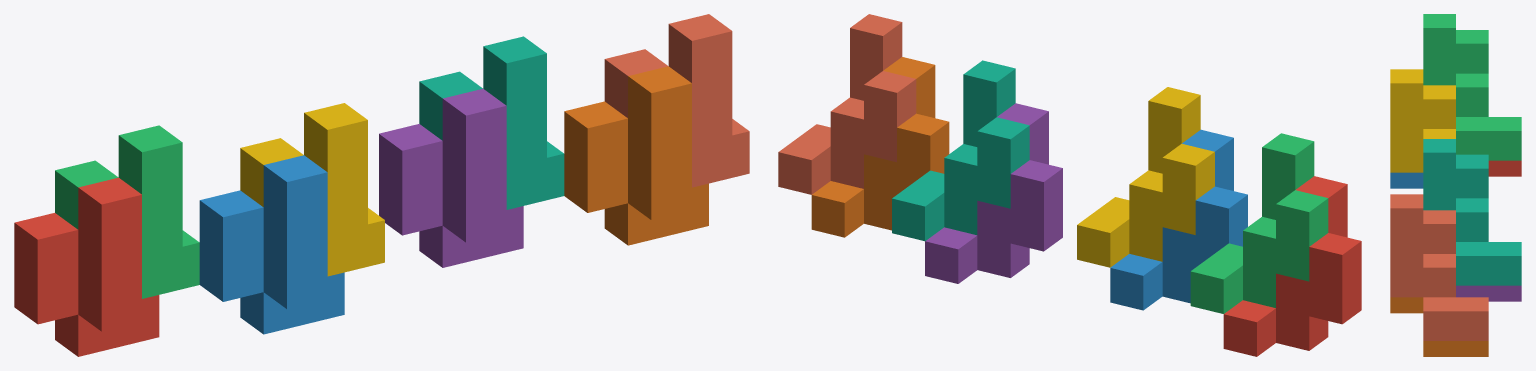
Rendered from tiling.obj.
The picture shows the model from 3 angles, left to right: view 1: azimuth 30°, elevation 25°; view 2: azimuth 150°, elevation 25°; view 3: azimuth 270°, elevation 25°; orthographic projection. The views are drawn at different scales.
Visible parts, largest first — view 1: copy_1_domain_2, copy_1_domain_5, copy_1_domain_1, copy_1_domain_6, copy_1_domain_7, copy_1_domain_3, copy_1_domain_8, copy_1_domain_4; view 2: copy_1_domain_3, copy_1_domain_7, copy_1_domain_4, copy_1_domain_8, copy_1_domain_1, copy_1_domain_5, copy_1_domain_6, copy_1_domain_2; view 3: copy_1_domain_8, copy_1_domain_7, copy_1_domain_3, copy_1_domain_4, copy_1_domain_6, copy_1_domain_5, copy_1_domain_1, copy_1_domain_2.
Boxes of the visible parts, x1,y1,x2,y2 form: copy_1_domain_2: (199,155,344,334); copy_1_domain_5: (379,89,523,267); copy_1_domain_1: (14,177,159,356); copy_1_domain_6: (564,66,708,245); copy_1_domain_7: (419,36,564,209); copy_1_domain_3: (55,125,199,298); copy_1_domain_8: (604,14,749,187); copy_1_domain_4: (240,103,384,276); copy_1_domain_3: (1190,133,1328,313); copy_1_domain_7: (892,60,1029,241); copy_1_domain_4: (1077,87,1214,267); copy_1_domain_8: (778,14,916,194); copy_1_domain_1: (1223,176,1361,356); copy_1_domain_5: (925,103,1062,283); copy_1_domain_6: (811,57,949,237); copy_1_domain_2: (1110,129,1247,310); copy_1_domain_8: (1390,194,1488,340); copy_1_domain_7: (1423,139,1521,285); copy_1_domain_3: (1423,14,1521,160); copy_1_domain_4: (1390,69,1455,172); copy_1_domain_6: (1390,297,1488,356); copy_1_domain_5: (1456,285,1521,301); copy_1_domain_1: (1488,160,1521,176); copy_1_domain_2: (1390,172,1423,188).
Bounding box in the file's own units: 17 × 5 × 4.
